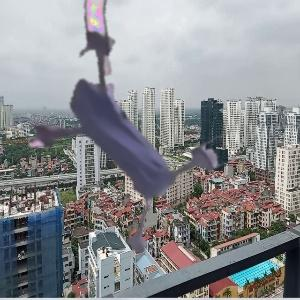drone: (13, 6, 252, 245)
